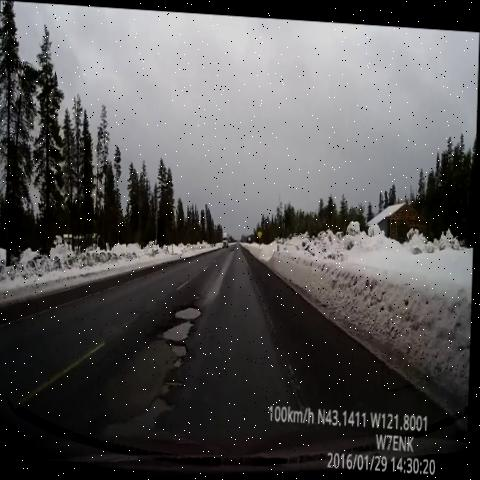pothole: (150, 318, 211, 410), (154, 273, 218, 354), (228, 230, 242, 255)
